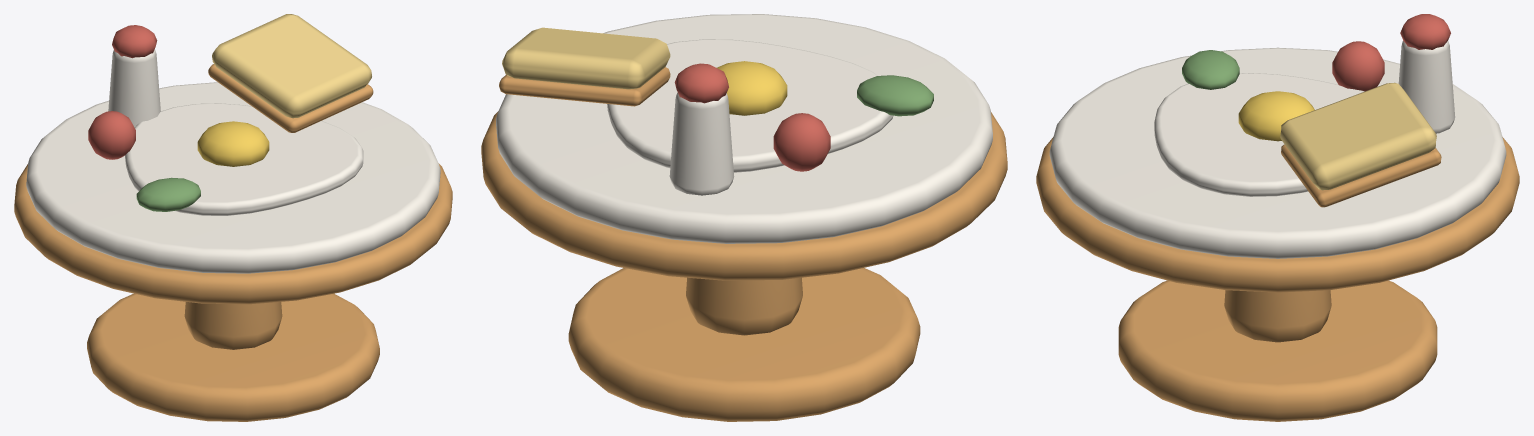
Rendered from dish_fried_egg.glb.
3 renders of one model, left to right at view 1: azimuth 30°, elevation 25°; view 2: azimuth 150°, elevation 25°; view 3: azimuth 270°, elevation 25°, orthographic. The views are drawn at different scales.
Visible parts, largest first — view 1: dish_fried_egg_mesh; view 2: dish_fried_egg_mesh; view 3: dish_fried_egg_mesh.
Boxes of the visible parts, x1,y1,x2,y2 form: dish_fried_egg_mesh: (14, 14, 452, 421); dish_fried_egg_mesh: (481, 14, 1007, 421); dish_fried_egg_mesh: (1036, 14, 1519, 421).
Size of the model in its own units: 0.36 by 0.2673 by 0.36.
